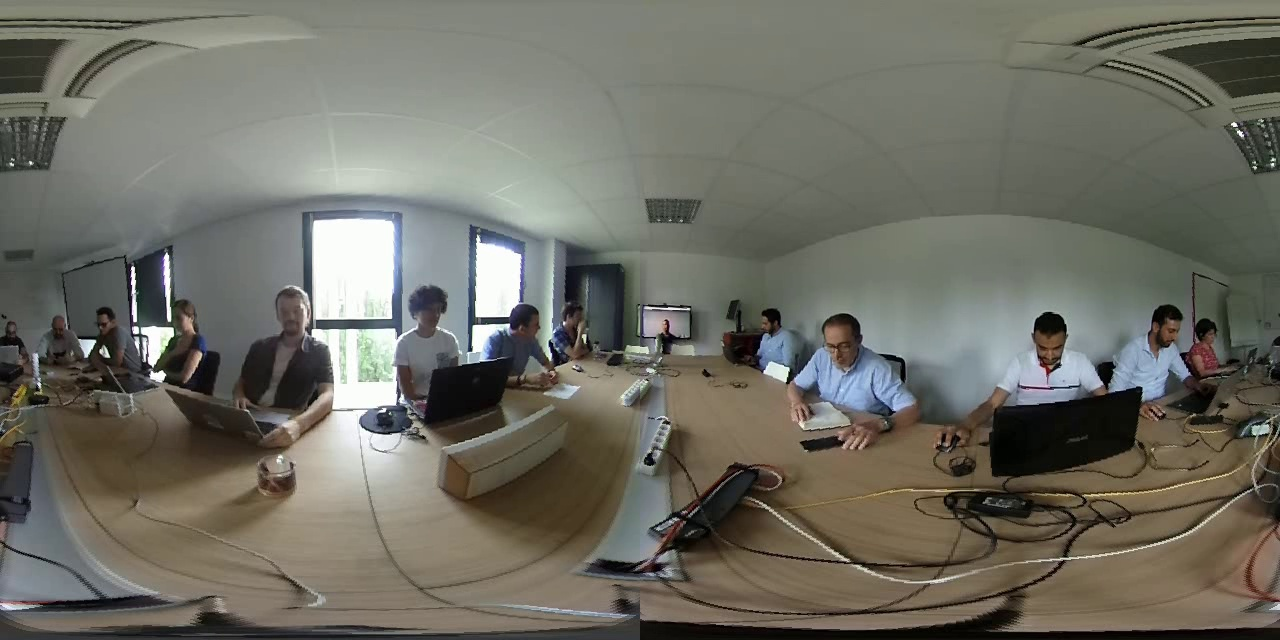person: (237, 273, 344, 413), (794, 295, 904, 418), (986, 298, 1102, 407), (382, 279, 471, 377), (1105, 294, 1186, 397), (150, 294, 216, 391), (482, 286, 544, 368), (83, 297, 140, 370), (738, 297, 795, 365), (549, 291, 605, 355), (1189, 309, 1234, 377), (37, 304, 82, 359), (640, 306, 689, 338), (2, 306, 32, 353)
